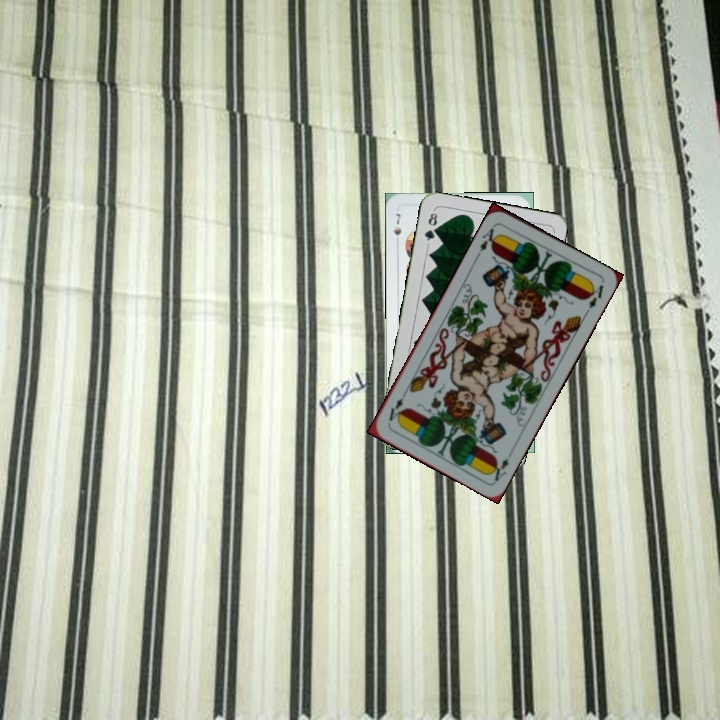EA: (476, 221, 502, 254), (486, 454, 511, 484)
G8: (420, 207, 440, 247)
S7: (390, 209, 404, 238)
